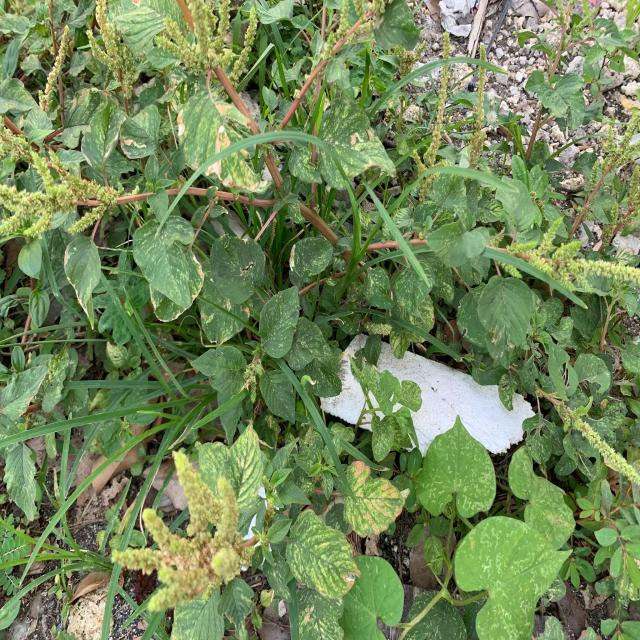litter: (310, 332, 539, 454)
